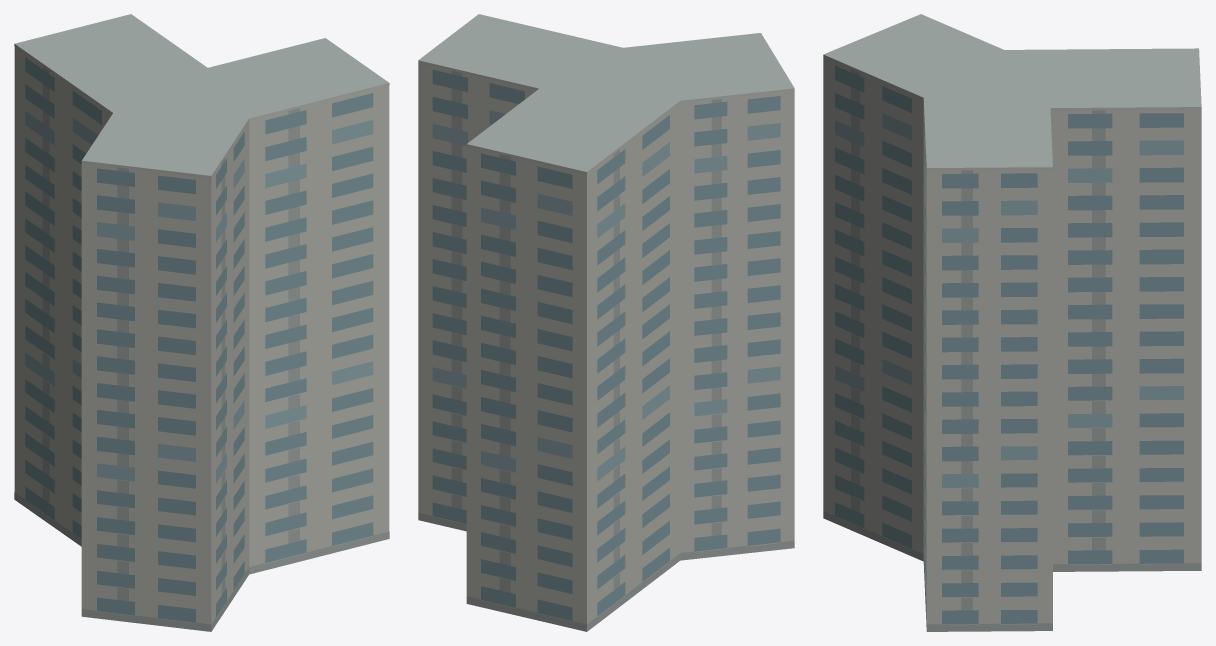
The model's file is residential-f990ba2f-1e0e-4d4b-be03-ad42ecfc6aaf.glb.
The picture shows the model from 3 angles, left to right: view 1: azimuth 30°, elevation 25°; view 2: azimuth 150°, elevation 25°; view 3: azimuth 270°, elevation 25°; orthographic projection.
Parts seen in each view (by area): view 1: residential-f990ba2f-1e0e-4d4b-be03-ad42ecfc6aaf.tmp; view 2: residential-f990ba2f-1e0e-4d4b-be03-ad42ecfc6aaf.tmp; view 3: residential-f990ba2f-1e0e-4d4b-be03-ad42ecfc6aaf.tmp.
Boxes of the visible parts, bbox=[...] form: residential-f990ba2f-1e0e-4d4b-be03-ad42ecfc6aaf.tmp: bbox=[14, 14, 389, 631]; residential-f990ba2f-1e0e-4d4b-be03-ad42ecfc6aaf.tmp: bbox=[418, 14, 794, 631]; residential-f990ba2f-1e0e-4d4b-be03-ad42ecfc6aaf.tmp: bbox=[823, 14, 1201, 631].
Size of the model in its own units: 32.07 by 45 by 33.27.
